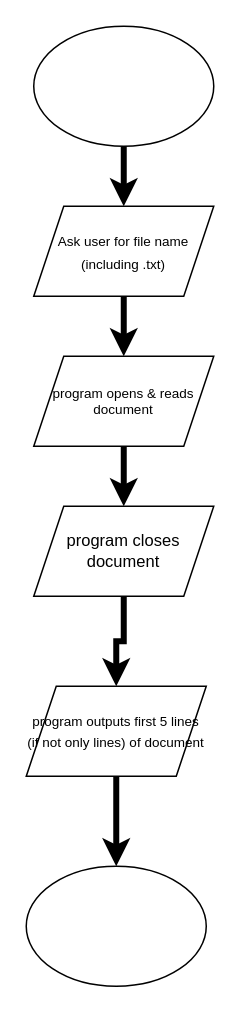
The diagram is 240 pixels wide and 1013 high, and some of its shapes have lost their labels. Each missing label, with the centre of its shape:
End.: the point at 115,925
Start: the point at 123,85
